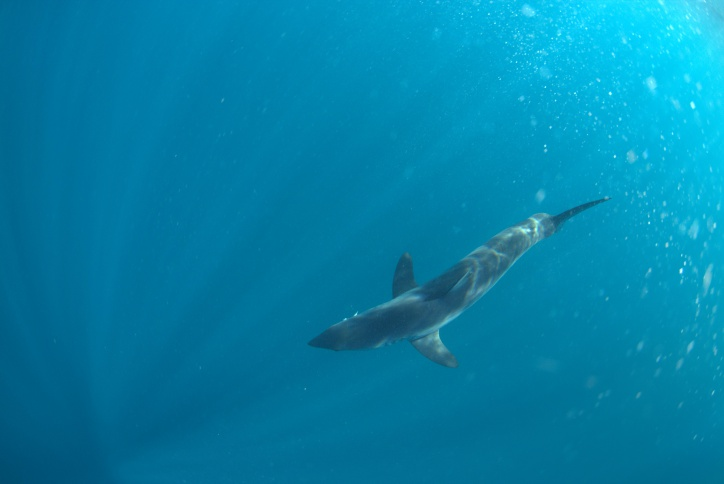Mako: (303, 181, 620, 375)
